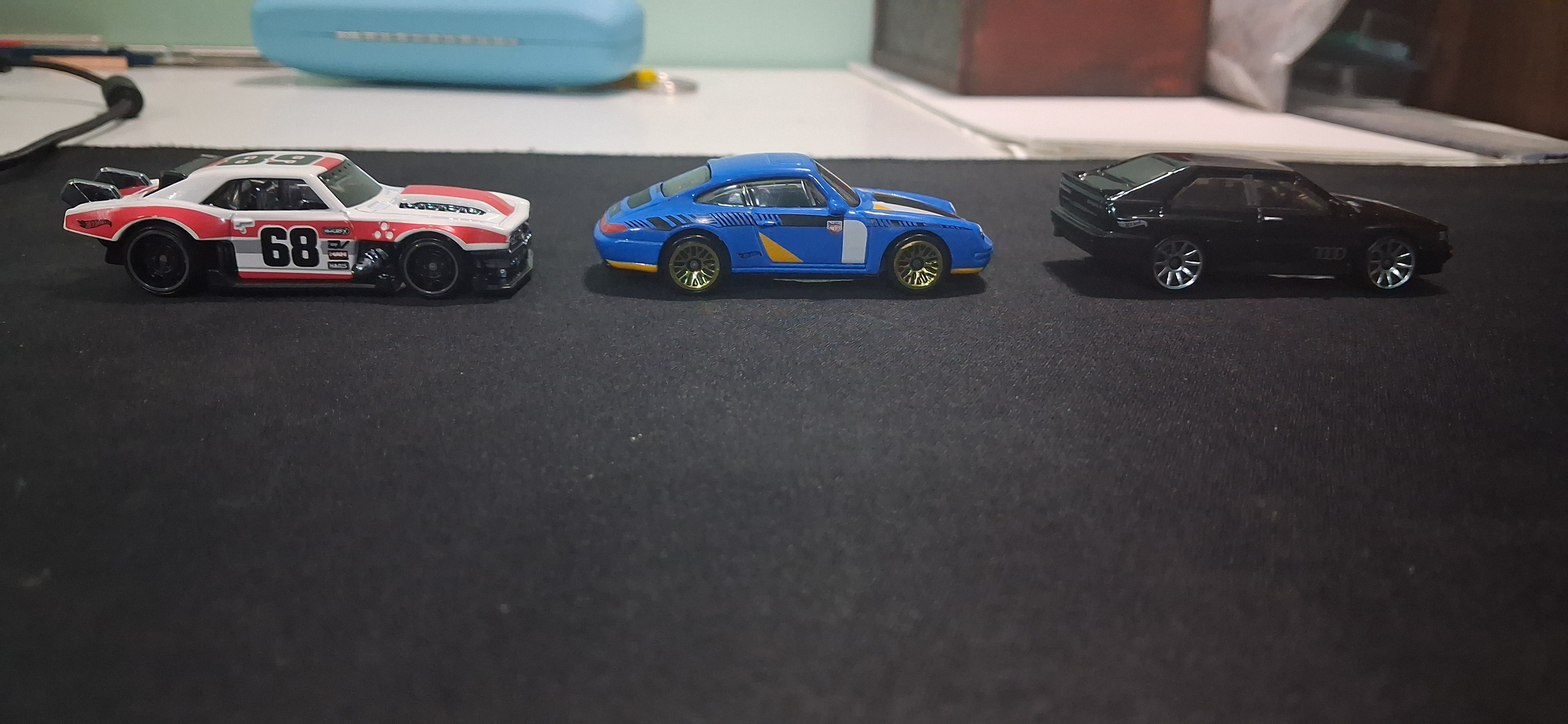Audi_Quattro: (1042, 137, 1483, 335)
Camaro: (15, 131, 551, 329)
Porsche_Carrera: (572, 159, 1008, 332)
